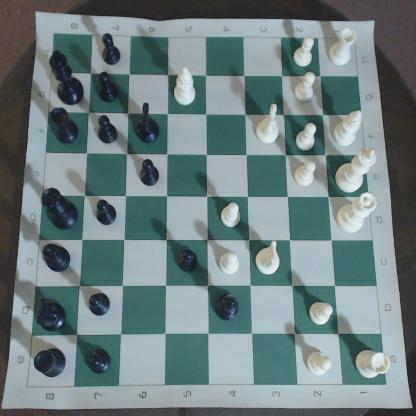black-bishop: (42, 243, 73, 274), (217, 291, 241, 322)
black-king: (49, 51, 89, 108)
black-knight: (37, 296, 70, 334), (138, 99, 161, 148)
black-pawn: (90, 114, 125, 145), (94, 73, 124, 106), (99, 31, 125, 67), (137, 158, 165, 189), (90, 343, 113, 379), (87, 291, 111, 322), (94, 199, 119, 227), (177, 249, 201, 275)
black-queen: (40, 187, 81, 232)
black-rook: (52, 107, 83, 147), (35, 347, 69, 377)
white-bishop: (332, 107, 367, 149), (176, 66, 198, 107)
white-king: (335, 146, 380, 194)
white-knight: (257, 102, 283, 148), (258, 238, 283, 277)
white-pawn: (305, 351, 337, 379), (307, 301, 339, 328), (297, 118, 321, 153), (220, 196, 245, 229), (294, 72, 319, 103), (293, 36, 317, 68), (295, 160, 321, 187), (220, 252, 242, 276)
white-queen: (336, 193, 379, 235)
white-rook: (329, 23, 360, 67), (353, 347, 393, 381)
